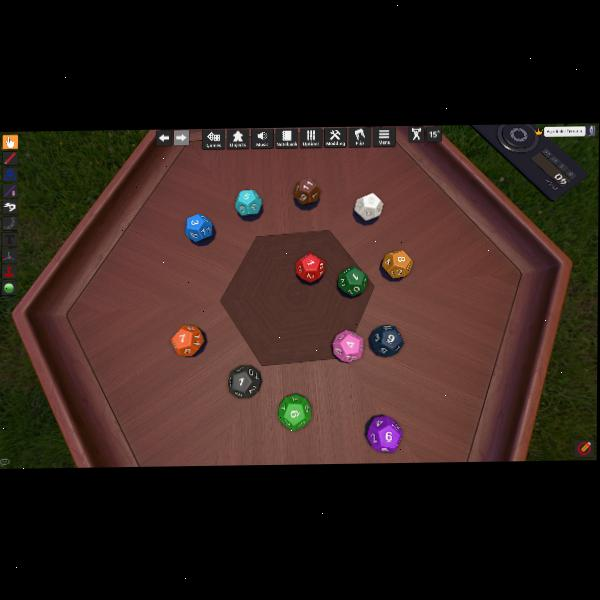d12: (366, 414, 402, 452), (278, 393, 312, 430), (228, 365, 261, 398), (171, 324, 204, 356), (370, 324, 403, 356), (332, 328, 363, 362), (382, 249, 412, 279), (337, 266, 367, 296), (296, 252, 324, 283), (354, 192, 383, 221), (185, 213, 213, 243), (292, 178, 319, 205), (236, 189, 263, 216)
